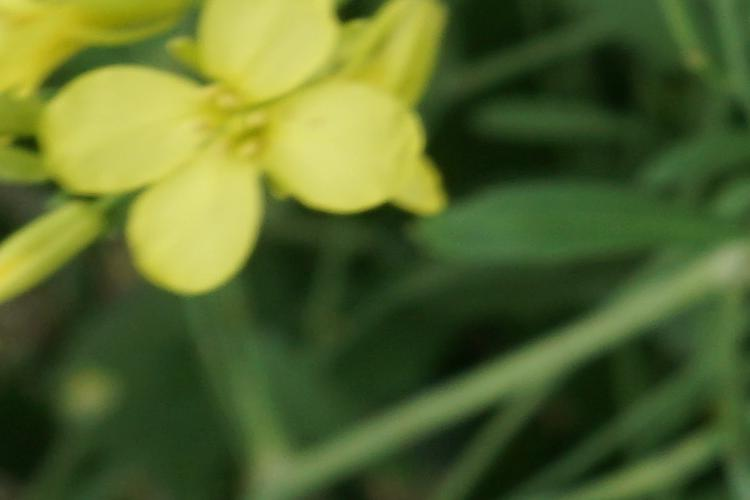yellow: (73, 13, 420, 271)
